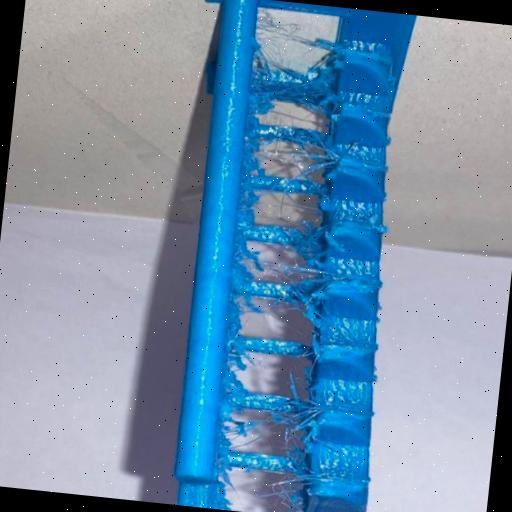stringing: (253, 254, 327, 282), (255, 144, 320, 174), (246, 9, 296, 41), (265, 476, 307, 512), (216, 415, 260, 446), (266, 408, 311, 436)
